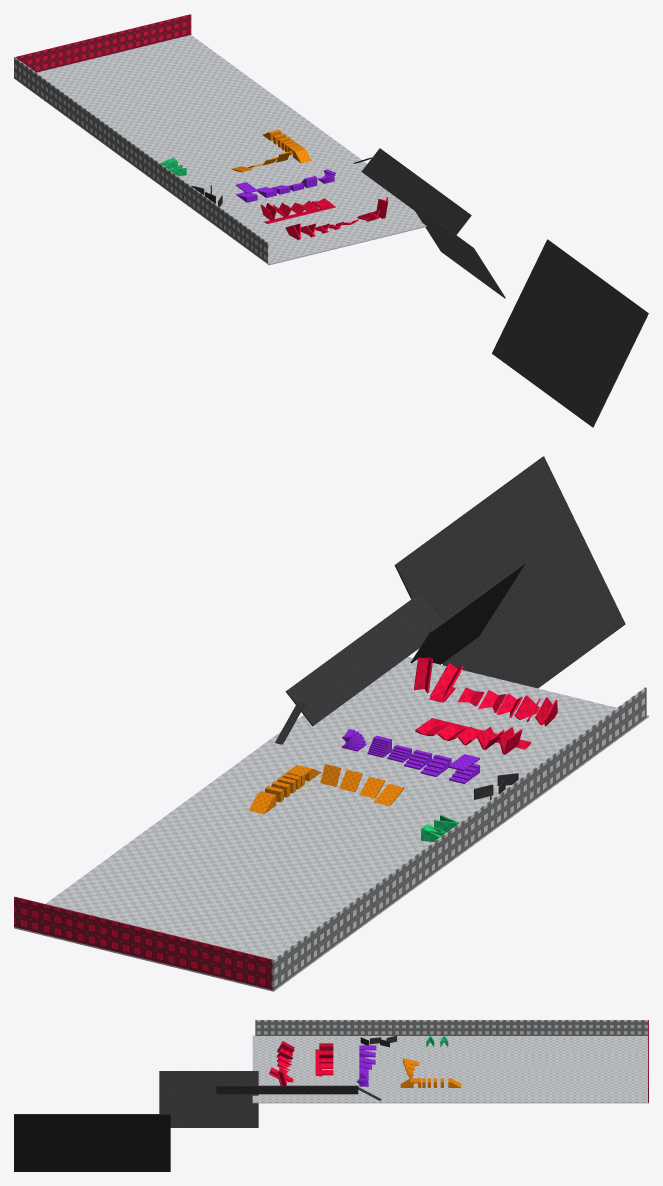
Rendered from playground.glb.
3 renders of one model, top to bottom at view 1: azimuth 30°, elevation 25°; view 2: azimuth 150°, elevation 25°; view 3: azimuth 270°, elevation 25°, orthographic. The views are drawn at different scales.
Parts seen in each view (by area): view 1: entity0_brush0, entity0_brush23, entity0_brush28, entity0_brush3, entity0_brush20, entity0_brush22; view 2: entity0_brush0, entity0_brush23, entity0_brush28, entity0_brush3, entity0_brush20, entity0_brush22; view 3: entity0_brush0, entity0_brush23, entity0_brush28, entity0_brush22, entity0_brush20.
Part boxes in pixels (x1,y1,x2,y2): entity0_brush0: (14,35,426,265); entity0_brush23: (492,239,648,427); entity0_brush28: (14,57,268,262); entity0_brush3: (15,14,191,72); entity0_brush20: (361,148,471,234); entity0_brush22: (409,201,505,298); entity0_brush0: (14,657,648,991); entity0_brush23: (394,456,625,688); entity0_brush28: (272,687,646,990); entity0_brush3: (14,896,272,989); entity0_brush20: (285,592,442,726); entity0_brush22: (410,562,525,664); entity0_brush0: (252,1035,648,1103); entity0_brush23: (14,1114,170,1171); entity0_brush28: (255,1020,648,1035); entity0_brush22: (159,1071,258,1127); entity0_brush20: (216,1085,358,1094).
Size of the model in its own units: 93.67 by 46.53 by 294.
Materials: 8 (8 with a texture image).
